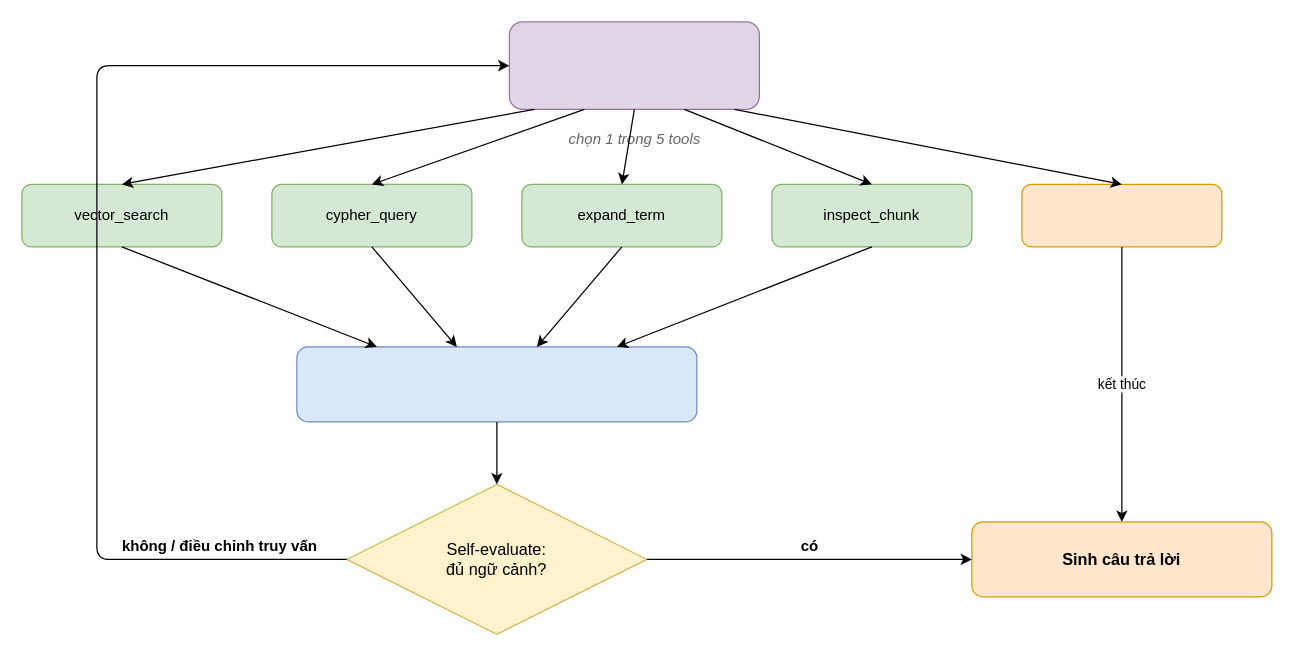
Image size: 1294x656. Some labels were removed from this diagram. Each missing label, with the centre of its shape:
finish: pixel 1121 215
Observation (kết quả tool): pixel 496 384
Planner LLM (Reasoning): pixel 633 65
